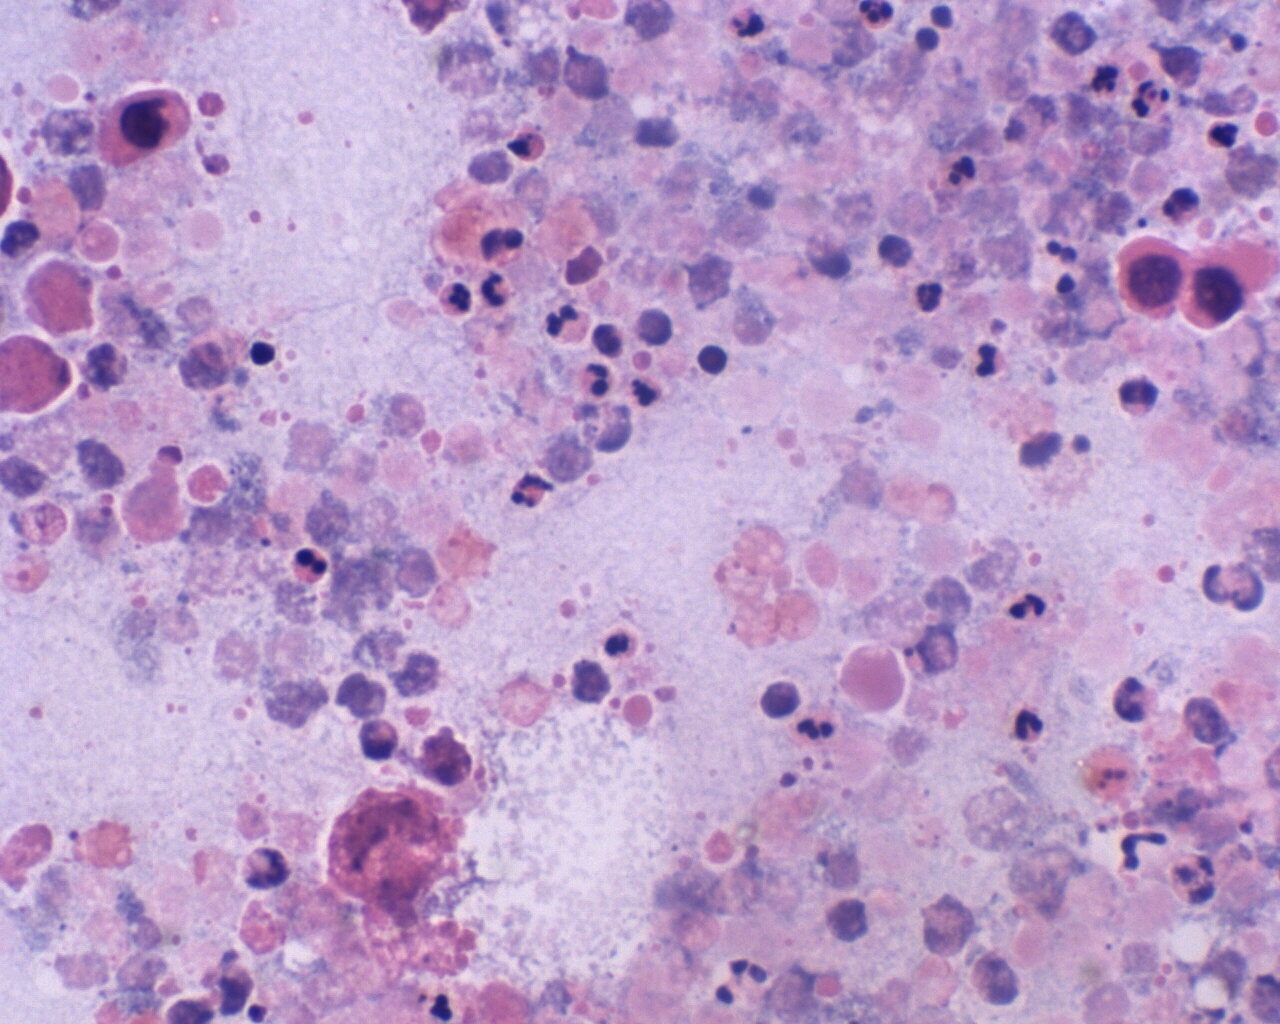ab: (1188, 233, 1280, 339), (1108, 225, 1191, 318)
neutro: (545, 298, 591, 347), (571, 357, 616, 402), (1006, 701, 1050, 748), (479, 272, 515, 311)
